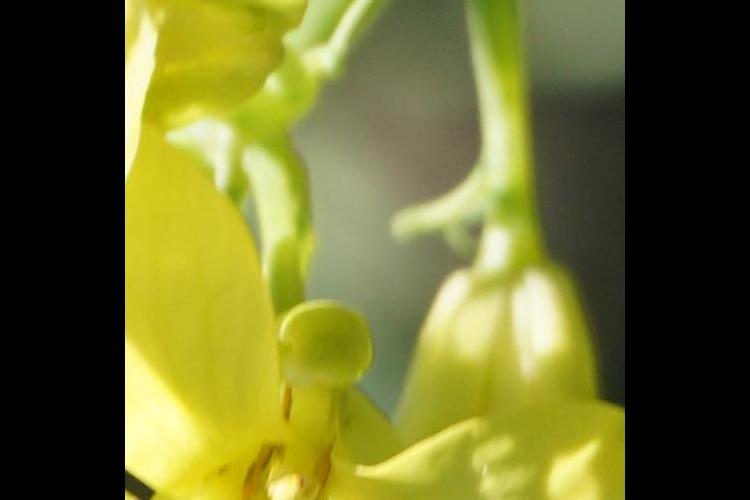yellow: (135, 1, 586, 500)
